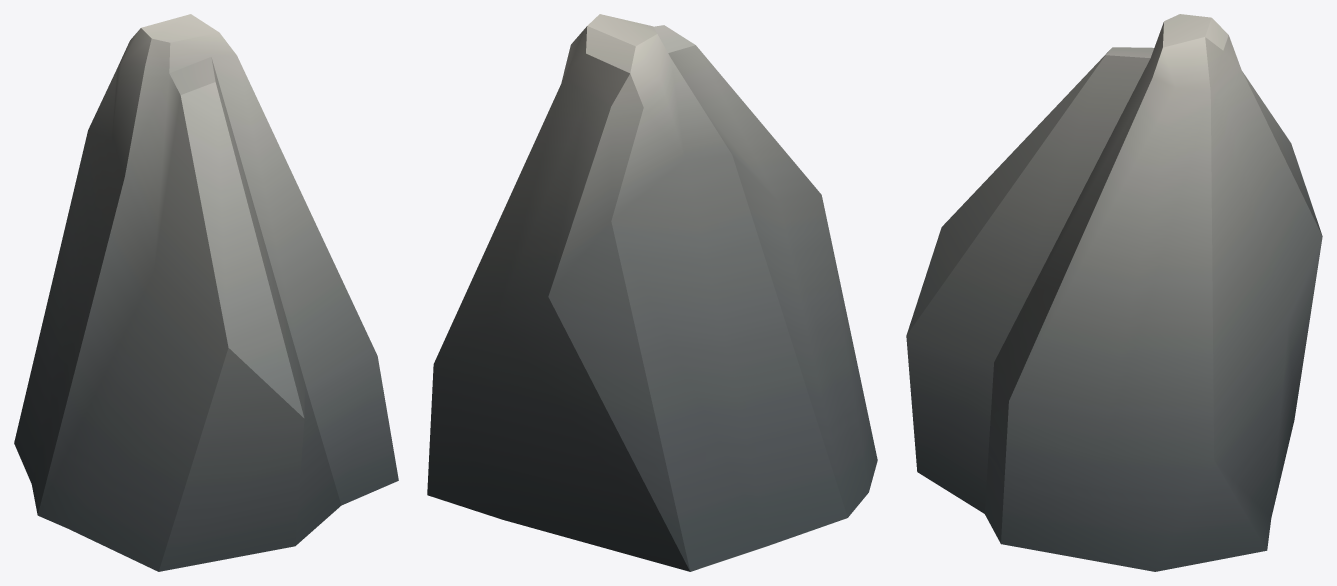
File: Rock_Medium_E.fbx
The picture shows the model from 3 angles, left to right: view 1: azimuth 30°, elevation 25°; view 2: azimuth 150°, elevation 25°; view 3: azimuth 270°, elevation 25°; orthographic projection. The views are drawn at different scales.
Visible parts, largest first — view 1: Rock_Medium_E; view 2: Rock_Medium_E; view 3: Rock_Medium_E.
Boxes of the visible parts, box(x1,y1,x2,y2) form: Rock_Medium_E: box(14, 14, 398, 571); Rock_Medium_E: box(427, 14, 877, 571); Rock_Medium_E: box(906, 14, 1322, 571).
Size of the model in its own units: 300 by 296 by 365.
Materials: 1 (1 with a texture image).
